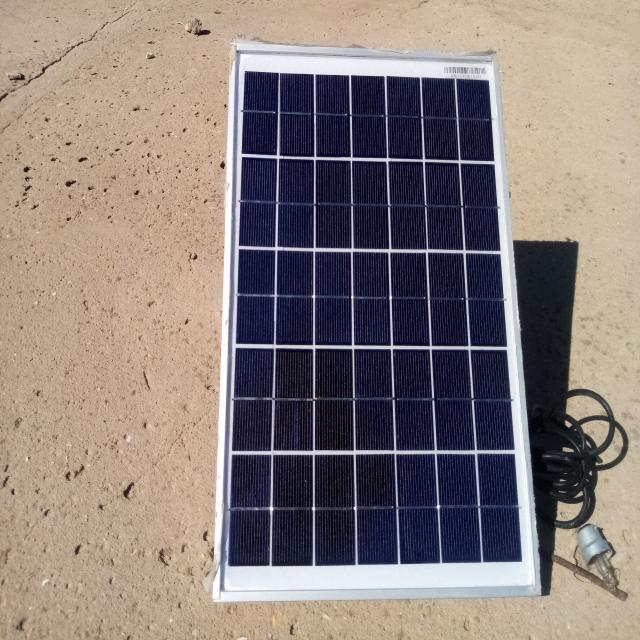no faulty: (220, 45, 538, 597)
